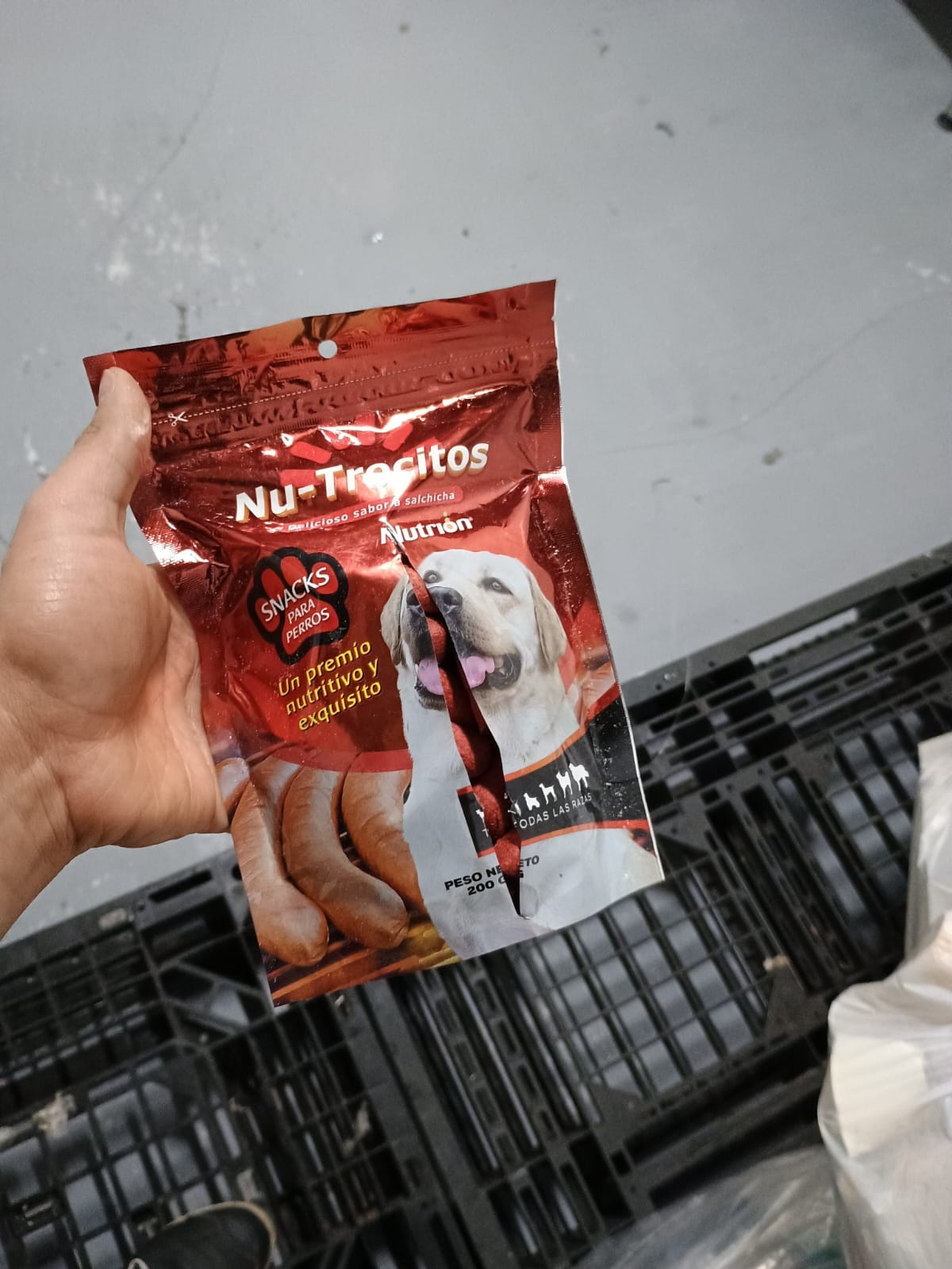Ordinario: (83, 278, 669, 1009)
